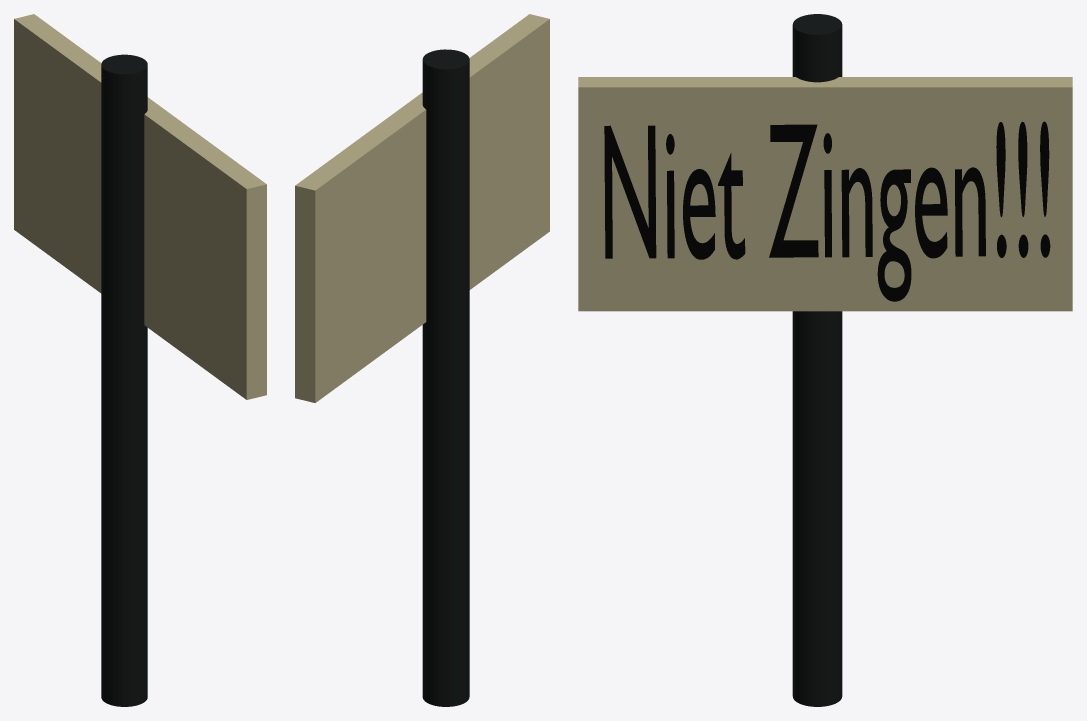
The model's file is VerbodenZingenBord.obj.
3 renders of one model, left to right at view 1: azimuth 30°, elevation 25°; view 2: azimuth 150°, elevation 25°; view 3: azimuth 270°, elevation 25°, orthographic. The views are drawn at different scales.
Visible parts, largest first — view 1: Cube_Cube.001, Cylinder_Cylinder.001; view 2: Cube_Cube.001, Cylinder_Cylinder.001; view 3: Cube_Cube.001, Cylinder_Cylinder.001, Text_Niet_Zingen!!!.
Boxes of the visible parts, left/top/right/bottom form: Cube_Cube.001: left=14, top=14, right=266, bottom=399; Cylinder_Cylinder.001: left=101, top=54, right=147, bottom=706; Cube_Cube.001: left=295, top=14, right=549, bottom=402; Cylinder_Cylinder.001: left=422, top=49, right=469, bottom=706; Cube_Cube.001: left=578, top=77, right=1072, bottom=311; Cylinder_Cylinder.001: left=792, top=14, right=842, bottom=706; Text_Niet_Zingen!!!: left=604, top=121, right=1050, bottom=301.
Bounding box in the file's own units: 0.1325 × 1.5 × 1.
